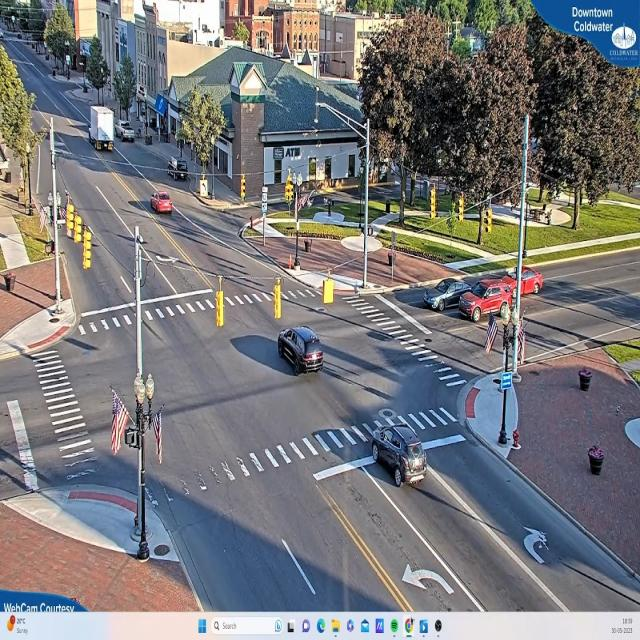car: (373, 424, 429, 489), (278, 326, 325, 371), (460, 281, 510, 318), (165, 160, 190, 182), (151, 191, 174, 214), (118, 124, 135, 143)
